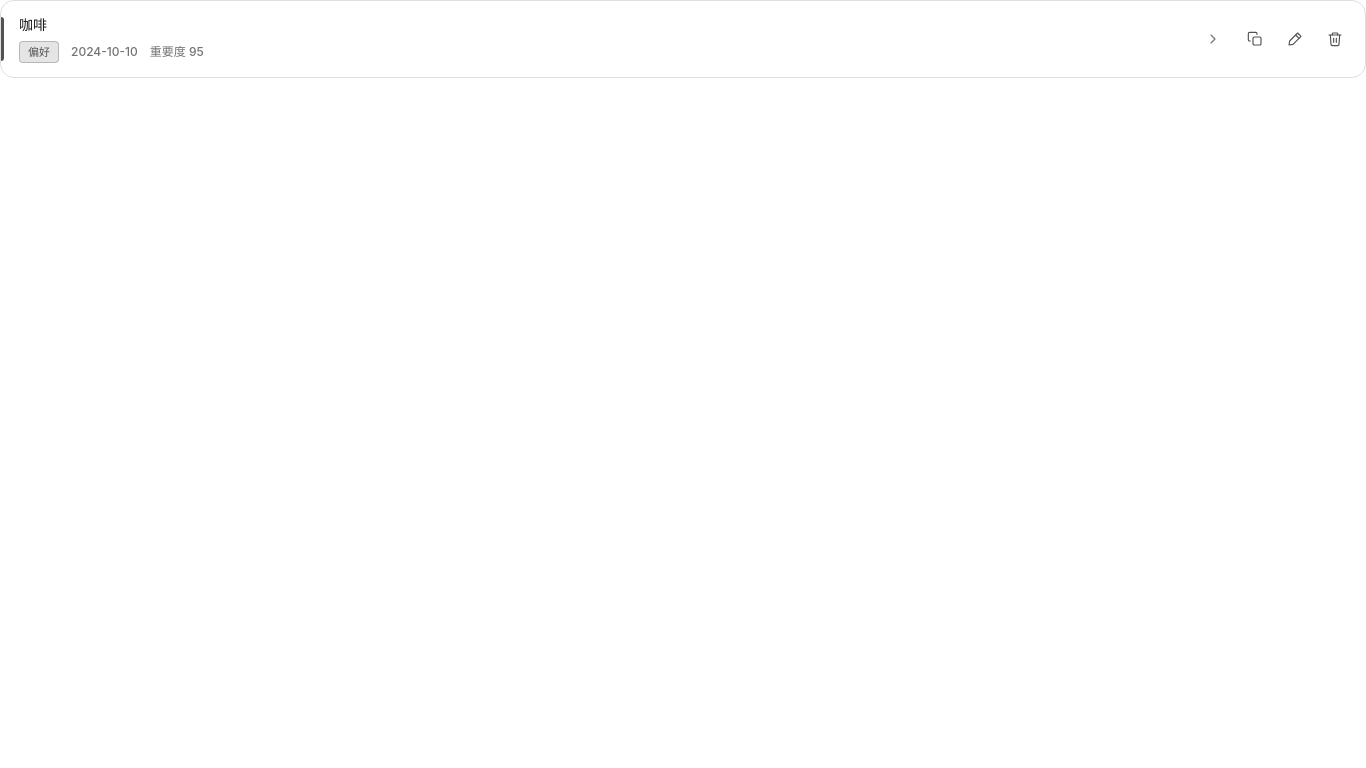
it: MemoryCard › 编辑图标直接打开完整内容编辑器，不触发详情
The image size is (1366, 768).
Click the button named "编辑记忆": coordinates (1295, 39) [1277,21,1313,57]
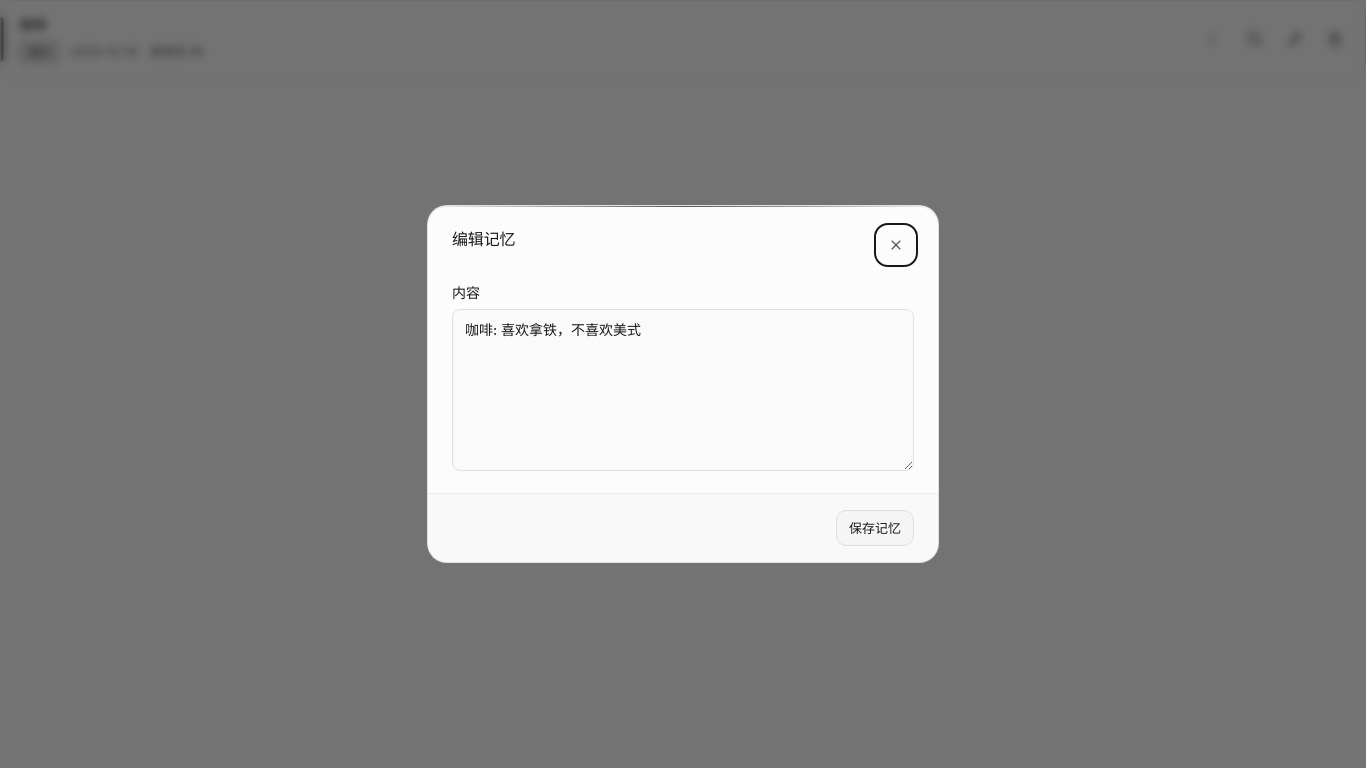
Check: the dialog "编辑记忆" is shown, box [427,205,939,563]
Check: the text box labelled "内容" holds "咖啡: 喜欢拿铁，不喜欢美式", box [452,309,914,471]
